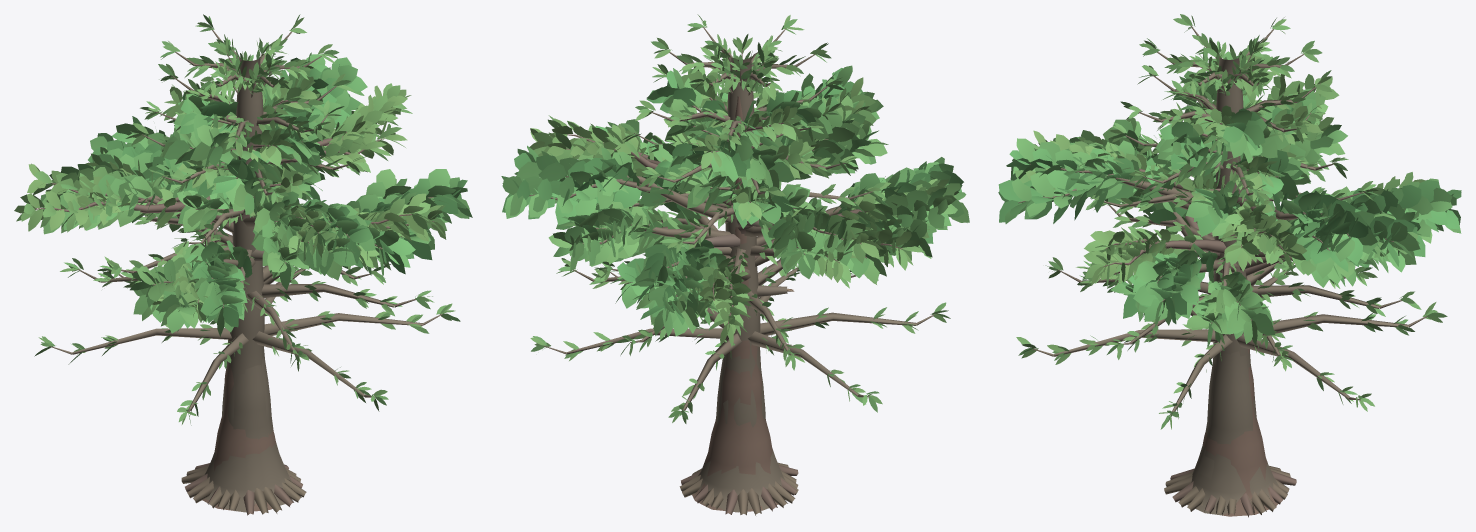
File: canopy-tree-library-original-v7.glb
3 views of the same model, side by side, from view 1: azimuth 30°, elevation 25°; view 2: azimuth 150°, elevation 25°; view 3: azimuth 270°, elevation 25° (orthographic).
Parts seen in each view (by area): view 1: canopy-tree-attached-leaves (×4), canopy-tree-load-bearing-structure (×4); view 2: canopy-tree-attached-leaves (×4), canopy-tree-load-bearing-structure (×4); view 3: canopy-tree-attached-leaves (×4), canopy-tree-load-bearing-structure (×4).
Boxes of the visible parts, box(x1,y1,x2,y2) form: canopy-tree-attached-leaves (×4): box(14, 14, 472, 425); canopy-tree-load-bearing-structure (×4): box(35, 28, 442, 515); canopy-tree-attached-leaves (×4): box(501, 14, 969, 423); canopy-tree-load-bearing-structure (×4): box(529, 27, 937, 515); canopy-tree-attached-leaves (×4): box(998, 14, 1461, 429); canopy-tree-load-bearing-structure (×4): box(1018, 25, 1426, 517).
Size of the model in its own units: 6.74 by 7.33 by 6.8.
